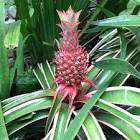Pineapple: (54, 7, 90, 85)
